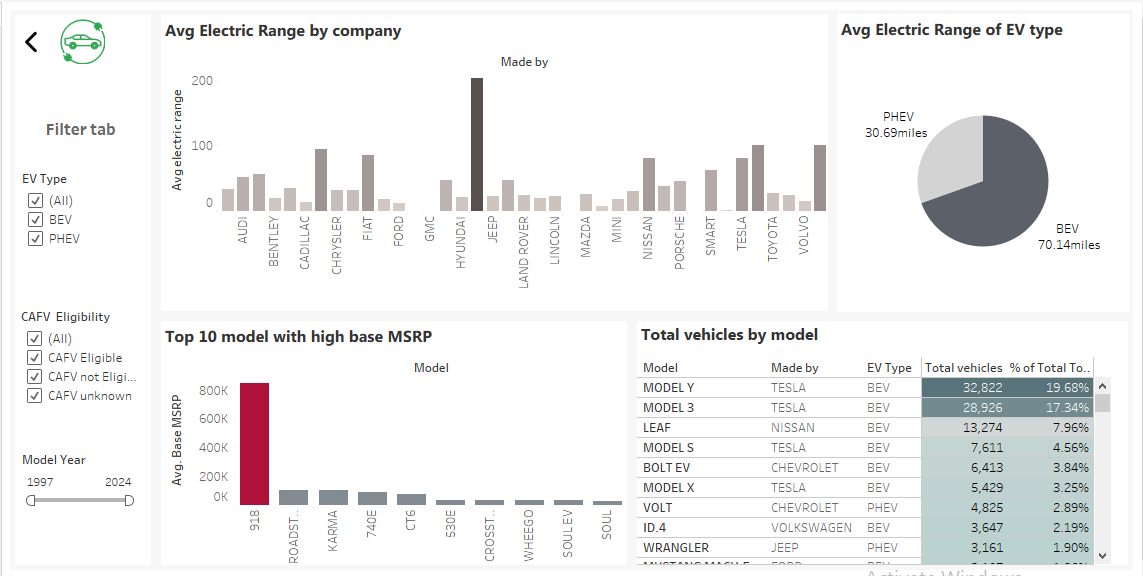

The page's visual inventory and layout, read from the dashboard file:
{"tool":"tableau","page":{"name":"EV model details","canvas":[1000,1000],"units":"permille","ordinal":1},"visuals":[{"type":"worksheet","title":"Avg Electric Range by company","mark":"Automatic","rows":["Calculation_571675722562138113"],"cols":["Made by"],"box":[135.2,13.9,594.8,531.4]},{"type":"worksheet","title":"Avg Electric Range of EV type","mark":"Pie","box":[729.9,13.9,263.1,531.4]},{"type":"image","param":"C:/Users/acer/Downloads/electric-car.png","box":[11.4,22.6,119.4,92]},{"type":"dashboard-object","box":[9.7,34.7,30.7,69.4]},{"type":"text","box":[36.2,186.6,80.3,67]},{"type":"filter","title":"Avg Electric Range by company","param":"[federated.02mqu400ak0gei1875x320p4oe3u].[none:Electric Vehicle Type:nk]","box":[17.7,291.7,108.6,190.2]},{"type":"filter","title":"Avg Electric Range by company","param":"[federated.02mqu400ak0gei1875x320p4oe3u].[none:Clean Alternative Fuel Vehicle (C","box":[16.8,530.8,106.8,201.1]},{"type":"worksheet","title":"Top 10 model with high base MSRP","mark":"Automatic","rows":["Base MSRP"],"cols":["Model"],"box":[135.2,545.3,417.9,440.8]},{"type":"worksheet","title":"Total vehicles by model","mark":"Square","rows":["Model","Made by","Electric Vehicle Type"],"box":[553.1,545.3,439.9,440.8]},{"type":"filter","title":"Avg Electric Range by company","param":"[federated.02mqu400ak0gei1875x320p4oe3u].[none:Model Year:qk]","box":[17.7,779,101.5,130.4]}]}

Visuals, with their boxes on the dashboard's canvas, which has no fixed pixel size, in thousandths of its width and height (x1, y1, x2, y2). These are canvas units, not pixel positions in the 1143x576 screenshot, which may show the page scaled, cropped or inside an application window:
"Avg Electric Range by company" worksheet: {"x1": 135, "y1": 14, "x2": 730, "y2": 545}
"Avg Electric Range of EV type" worksheet (Pie marks): {"x1": 730, "y1": 14, "x2": 993, "y2": 545}
image: {"x1": 11, "y1": 23, "x2": 131, "y2": 115}
dashboard-object: {"x1": 10, "y1": 35, "x2": 40, "y2": 104}
text: {"x1": 36, "y1": 187, "x2": 116, "y2": 254}
"Avg Electric Range by company" filter: {"x1": 18, "y1": 292, "x2": 126, "y2": 482}
"Avg Electric Range by company" filter: {"x1": 17, "y1": 531, "x2": 124, "y2": 732}
"Top 10 model with high base MSRP" worksheet: {"x1": 135, "y1": 545, "x2": 553, "y2": 986}
"Total vehicles by model" worksheet (Square marks): {"x1": 553, "y1": 545, "x2": 993, "y2": 986}
"Avg Electric Range by company" filter: {"x1": 18, "y1": 779, "x2": 119, "y2": 909}
